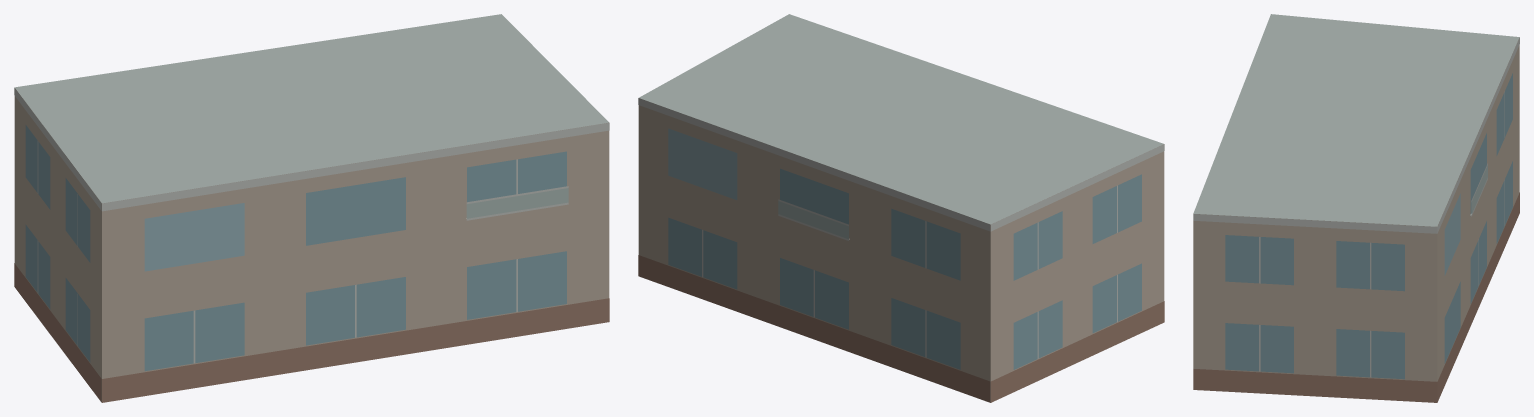
Rendered from survey-upis-32881078.glb.
3 renders of one model, left to right at view 1: azimuth 30°, elevation 25°; view 2: azimuth 150°, elevation 25°; view 3: azimuth 270°, elevation 25°, orthographic. The views are drawn at different scales.
Visible parts, largest first — view 1: survey-upis-32881078.tmp; view 2: survey-upis-32881078.tmp; view 3: survey-upis-32881078.tmp.
Boxes of the visible parts, left/top/right/bottom form: survey-upis-32881078.tmp: left=14, top=14, right=609, bottom=402; survey-upis-32881078.tmp: left=638, top=14, right=1164, bottom=402; survey-upis-32881078.tmp: left=1193, top=14, right=1519, bottom=402.
Bounding box in the file's own units: 15.82 × 6.1 × 10.26.
